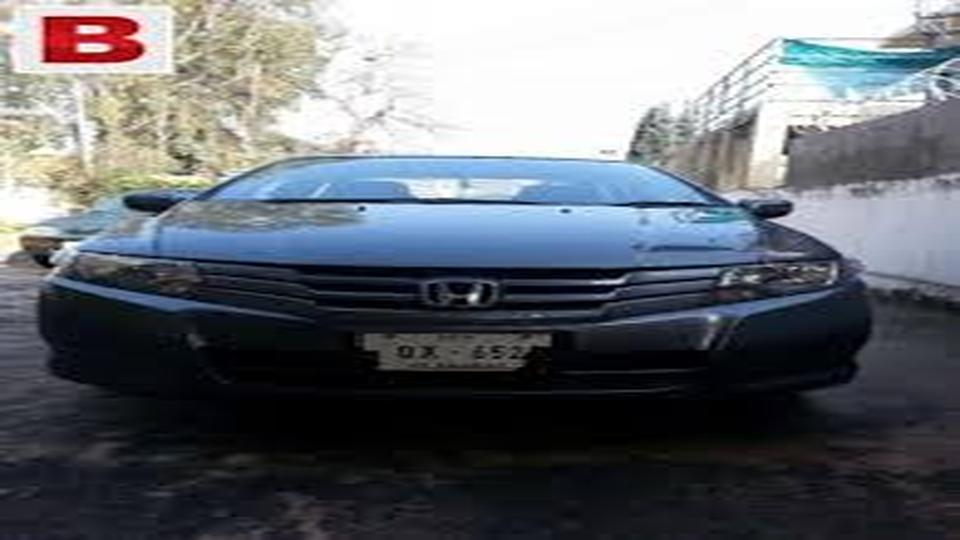NumberPlate: (346, 317, 556, 381)
